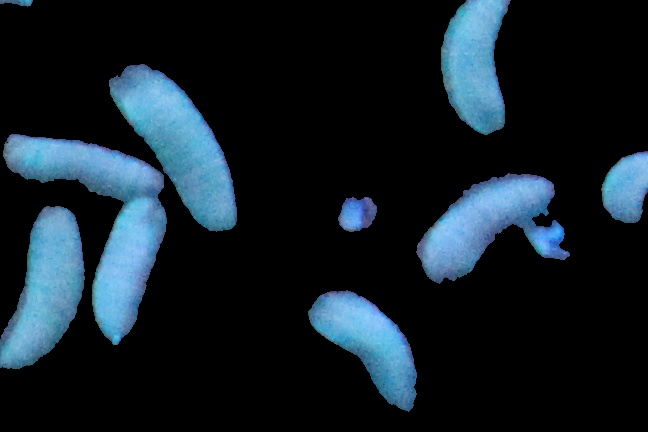larvae: (115, 61, 239, 229), (415, 174, 552, 280), (1, 129, 170, 210), (306, 290, 412, 417), (1, 210, 86, 364), (90, 194, 164, 347), (439, 1, 519, 137)
